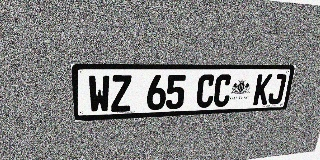5: (166, 75, 186, 109)
6: (147, 75, 167, 110)
C: (212, 74, 233, 107), (196, 75, 216, 108)
J: (267, 74, 287, 105)
K: (253, 74, 273, 105)
W: (88, 75, 110, 113)
Z: (111, 75, 132, 112)
